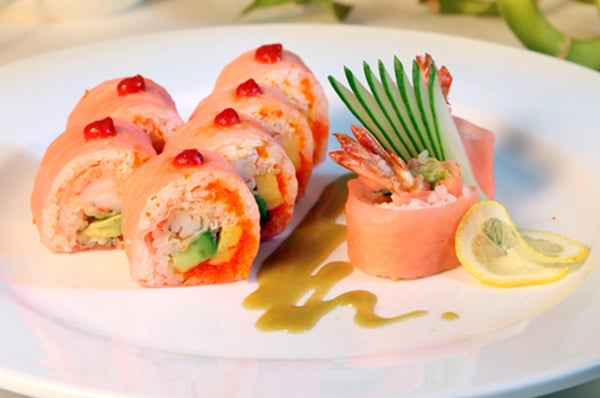taco: (454, 198, 591, 289)
